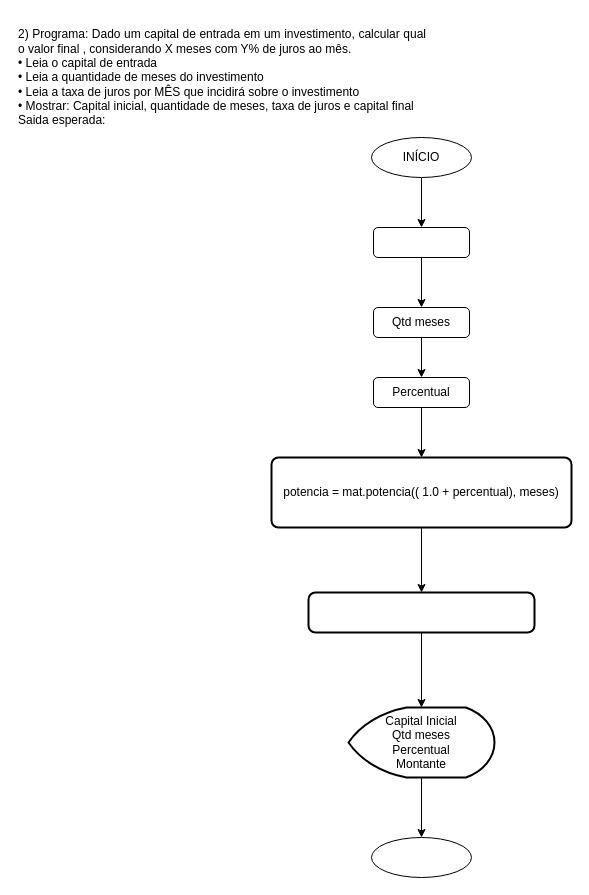
Image size: 589x895. Some labels were removed from this diagram. Here are the shapes that lost their labels. From the top down, the centre of each, then its label:
pixel 421 242: Capital Inicial
pixel 421 612: montante = (capInicial * potencia)/1000
pixel 421 857: FIM
